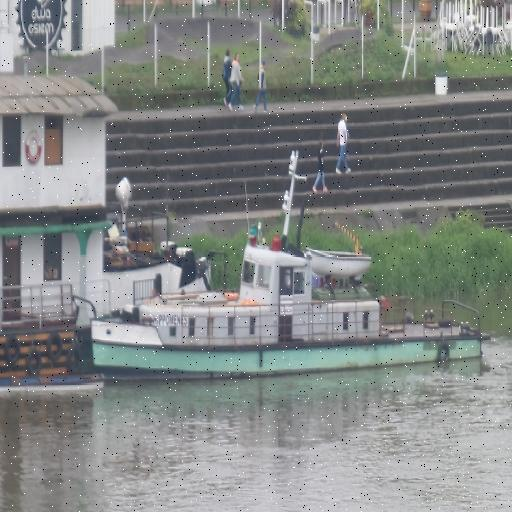tugboat: (89, 144, 497, 397)
